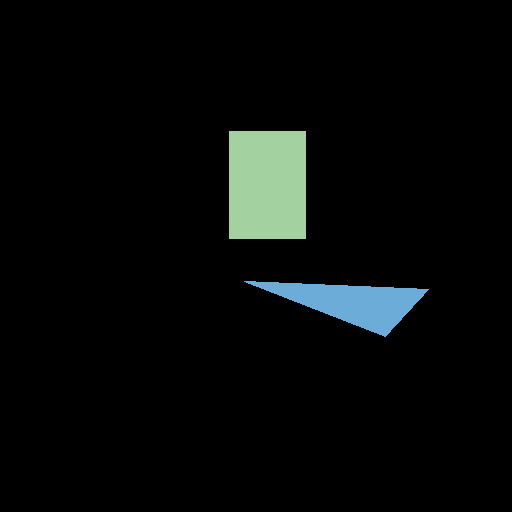rectangle: (229, 131, 305, 238)
triangle: (244, 281, 428, 336)
